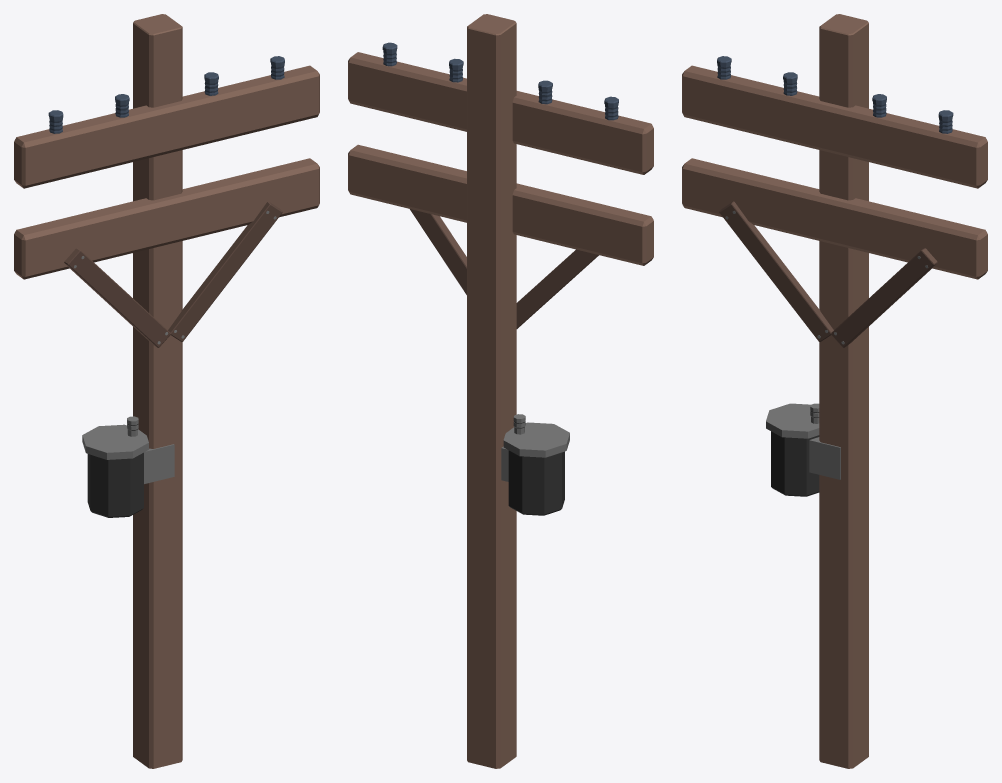
File: SM_Powerline2.glb
3 renders of one model, left to right at view 1: azimuth 30°, elevation 25°; view 2: azimuth 150°, elevation 25°; view 3: azimuth 330°, elevation 25°, orthographic.
Parts seen in each view (by area): view 1: M.PowerLine2; view 2: M.PowerLine2; view 3: M.PowerLine2.
Part boxes in pixels (x1=…): M.PowerLine2: x1=14, y1=14, x2=319, y2=768; M.PowerLine2: x1=348, y1=14, x2=653, y2=768; M.PowerLine2: x1=682, y1=14, x2=987, y2=768.
Bounding box in the file's own units: 6.55 × 15.4 × 1.31.
Materials: 1 (1 with a texture image).
